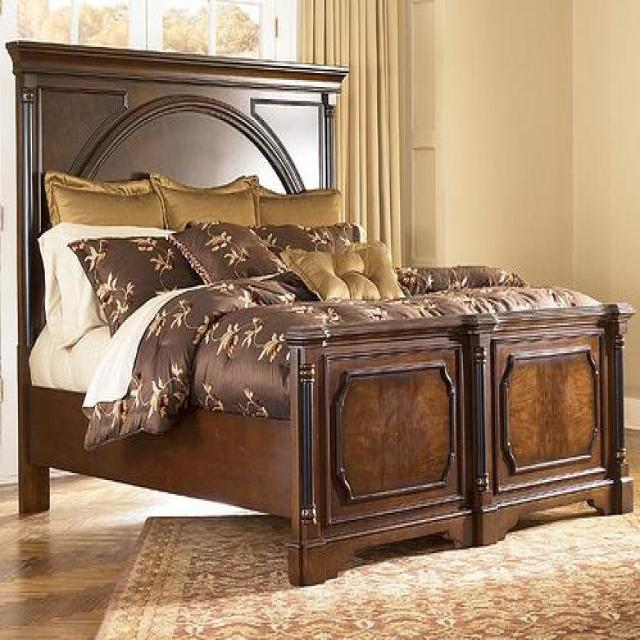bed: (5, 38, 636, 588)
